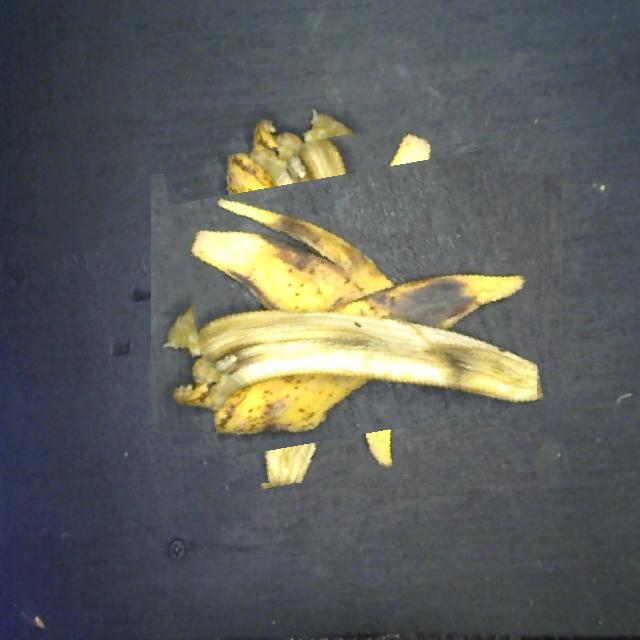biodegradable: (176, 122, 537, 483)
